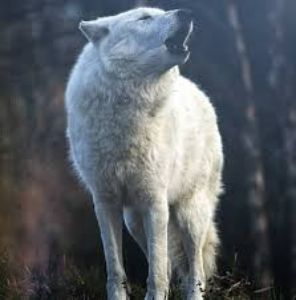wolf: (60, 5, 229, 297)
